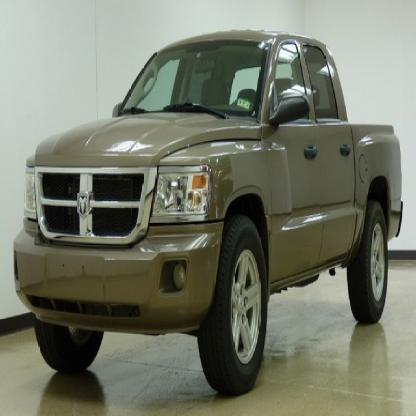car: (1, 10, 416, 394)
